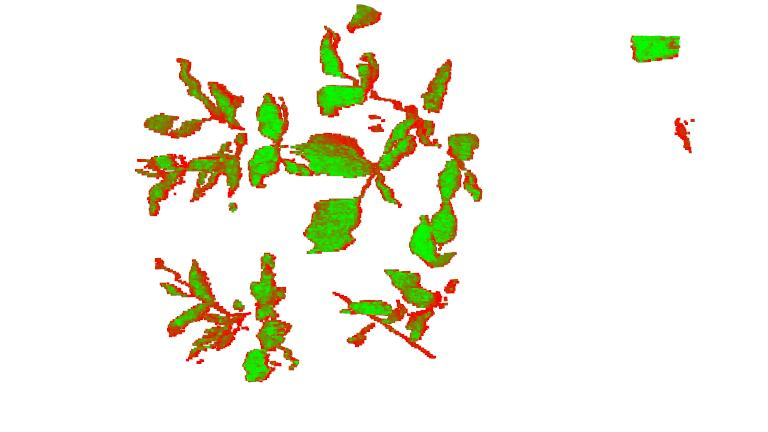mungbean: (291, 3, 483, 254), (136, 52, 289, 215), (153, 252, 303, 385), (335, 267, 473, 363)
